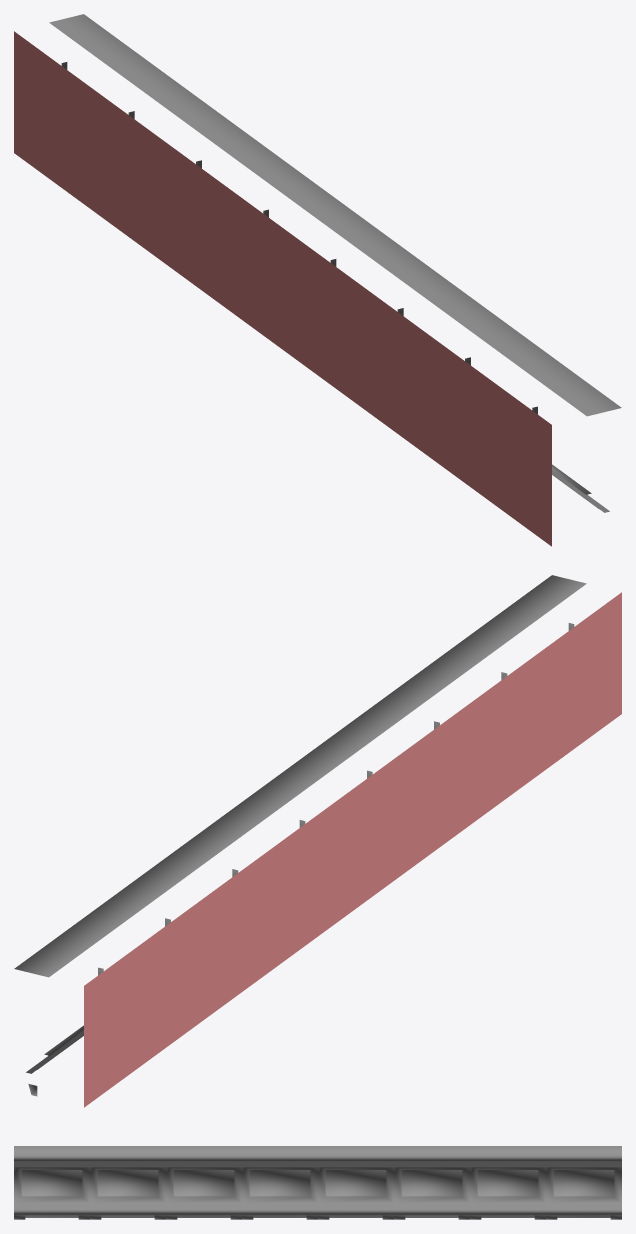
The model's file is SM_cornice_02.gltf.
3 views of the same model, one above another, from view 1: azimuth 30°, elevation 25°; view 2: azimuth 150°, elevation 25°; view 3: azimuth 270°, elevation 25° (orthographic). The views are drawn at different scales.
Visible parts, largest first — view 1: SM_cornice_02; view 2: SM_cornice_02; view 3: SM_cornice_02.
Boxes of the visible parts, left/top/right/bottom form: SM_cornice_02: left=14, top=14, right=621, bottom=546; SM_cornice_02: left=14, top=575, right=621, bottom=1107; SM_cornice_02: left=14, top=1146, right=621, bottom=1219.
Size of the model in its own units: 0.6 by 1 by 8.
